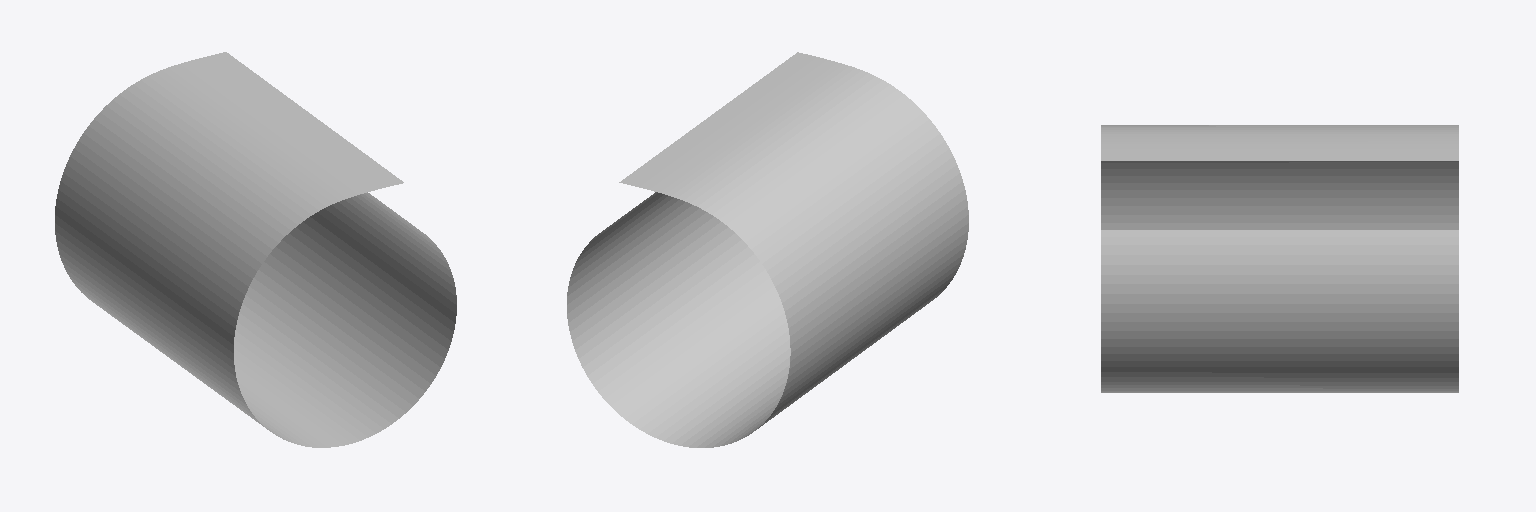
File: CurvePaper_000002.obj
The picture shows the model from 3 angles: view 1: azimuth 30°, elevation 25°; view 2: azimuth 150°, elevation 25°; view 3: azimuth 270°, elevation 25°; orthographic projection.
Parts seen in each view (by area): view 1: Plane; view 2: Plane; view 3: Plane.
Boxes of the visible parts, <box> form: Plane: <box>55,52,456,447</box>; Plane: <box>567,52,968,447</box>; Plane: <box>1101,125,1458,392</box>.
Bounding box in the file's own units: 1.64 × 1.74 × 2.26.